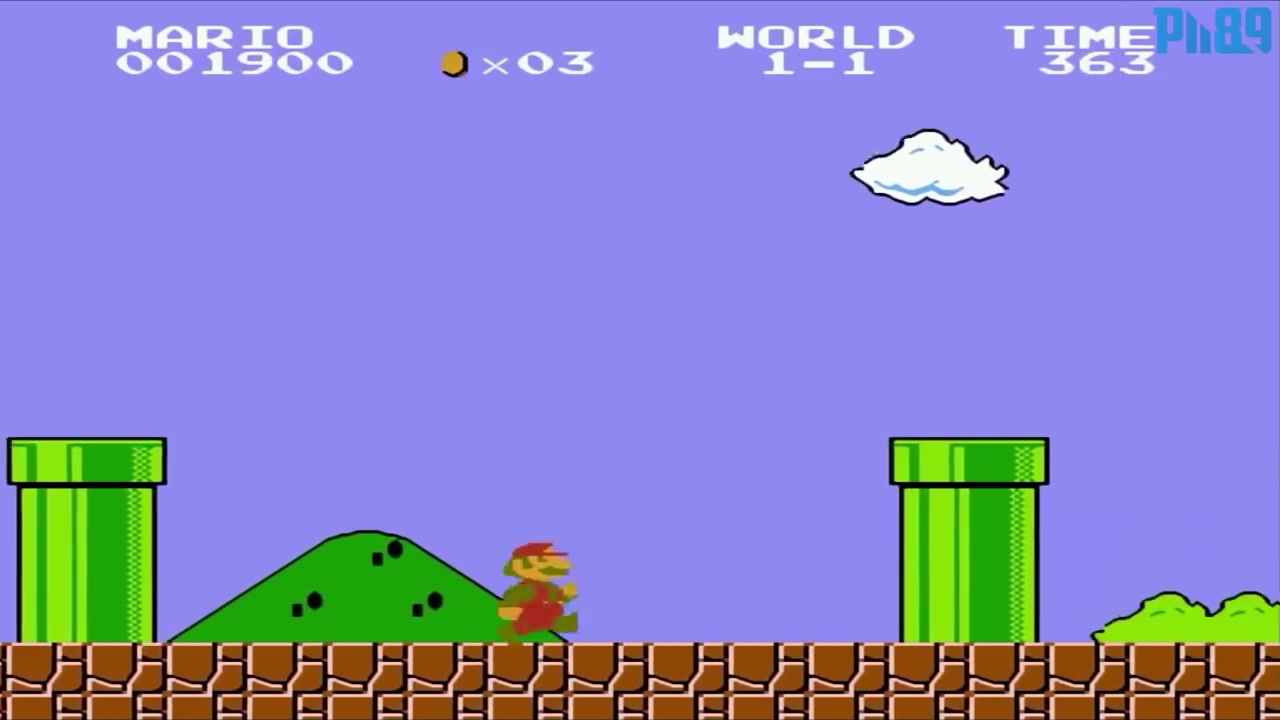mario: (478, 531, 593, 644)
